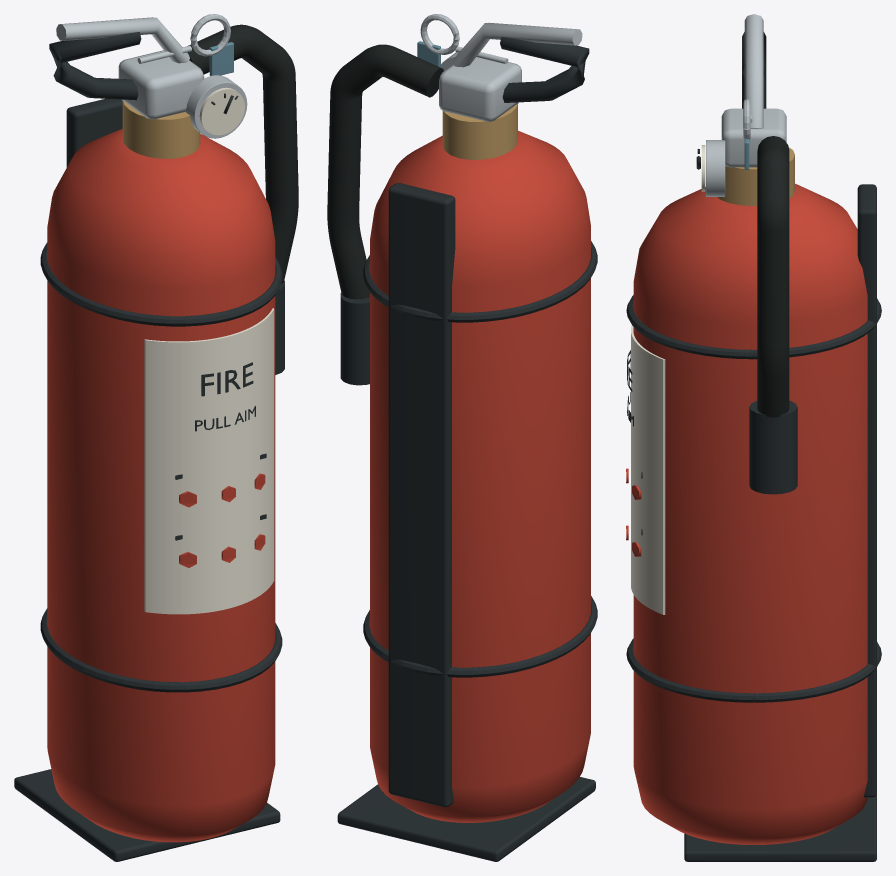
Rendered from safety-fire-extinguisher.glb.
3 renders of one model, left to right at view 1: azimuth 30°, elevation 25°; view 2: azimuth 150°, elevation 25°; view 3: azimuth 270°, elevation 25°, orthographic. The views are drawn at different scales.
Visible parts, largest first — view 1: catalog_surface_UVMap, catalog_surface_RealismUV; view 2: catalog_surface_UVMap, catalog_surface_RealismUV; view 3: catalog_surface_UVMap, catalog_surface_RealismUV.
Boxes of the visible parts, box(x1,y1,x2,y2) form: catalog_surface_UVMap: box(14, 32, 284, 861); catalog_surface_RealismUV: box(56, 14, 298, 614); catalog_surface_UVMap: box(337, 36, 597, 861); catalog_surface_RealismUV: box(327, 14, 582, 299); catalog_surface_UVMap: box(626, 32, 881, 861); catalog_surface_RealismUV: box(631, 14, 794, 614).
Bounding box in the file's own units: 0.14 × 0.43 × 0.1302.
